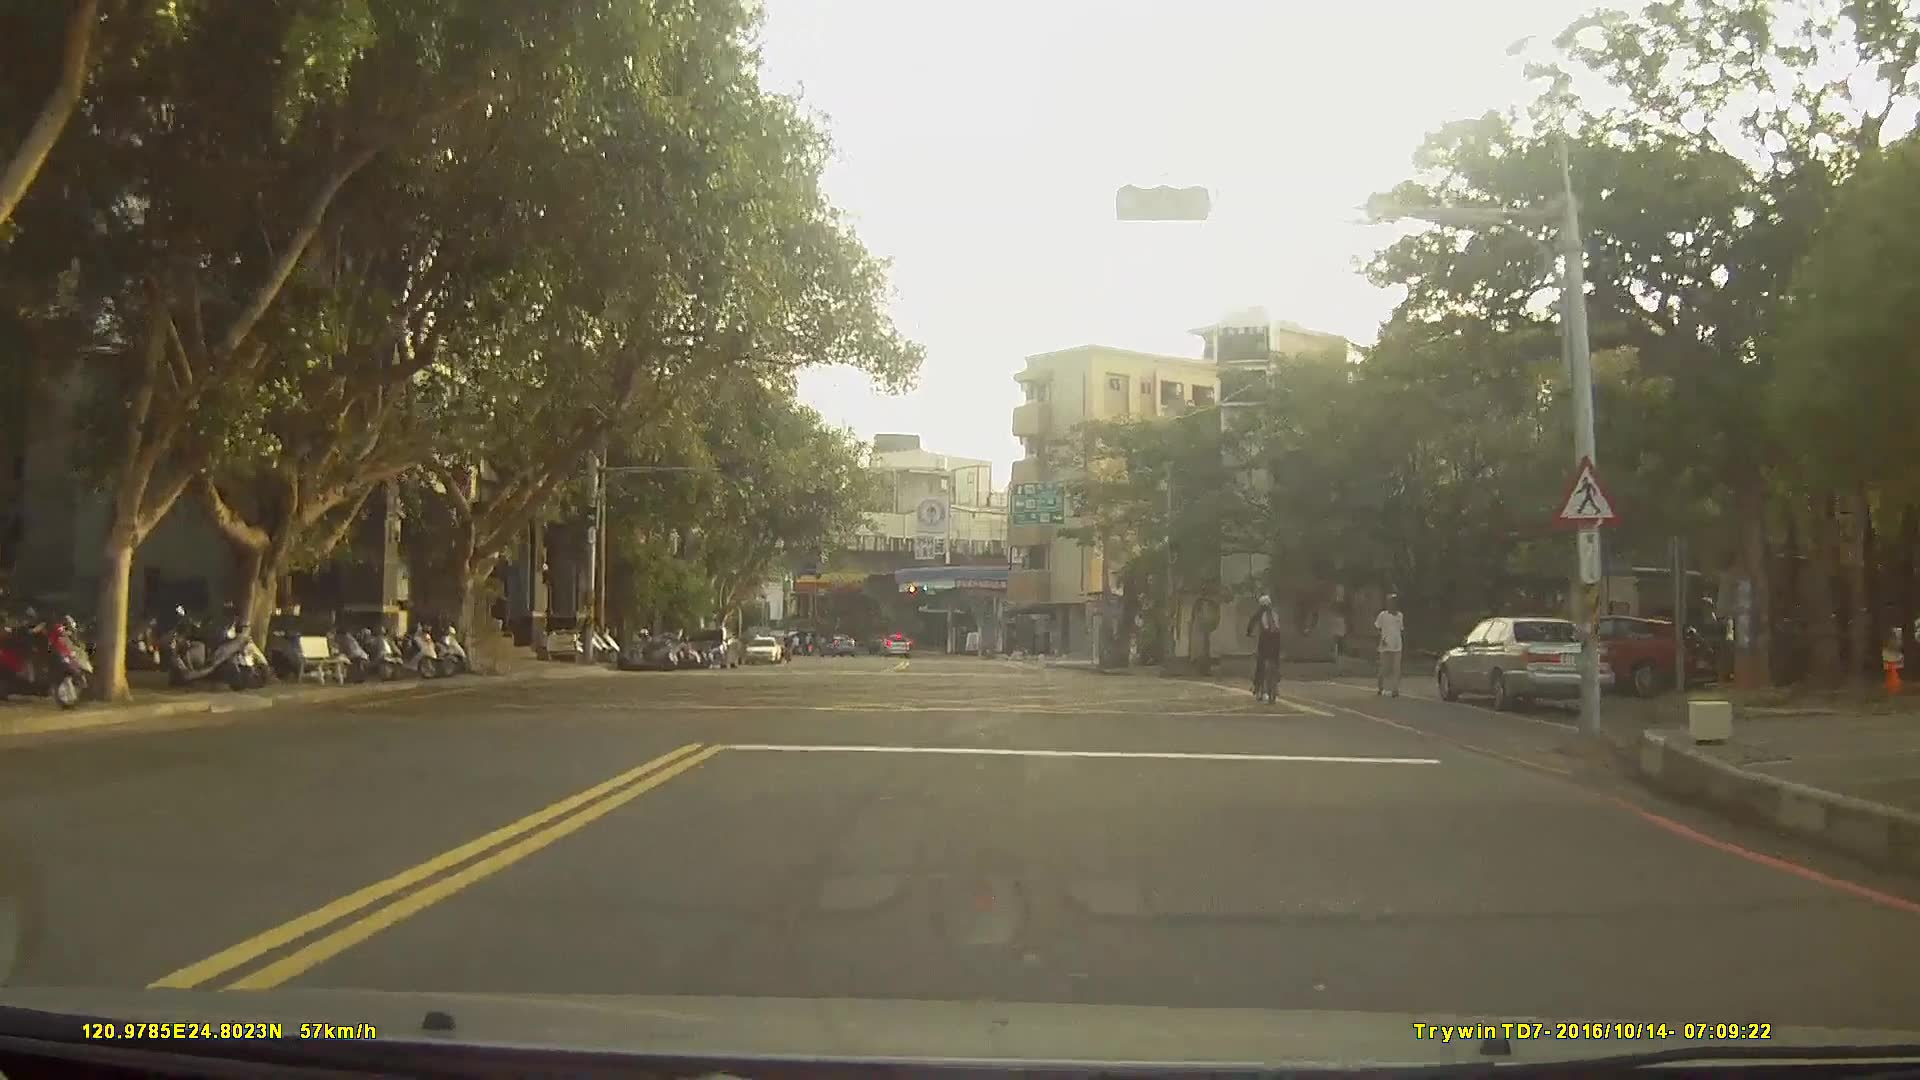pedestrian: (1372, 588, 1416, 699), (489, 596, 509, 647)
rider: (1247, 593, 1293, 702)
vehicle: (1435, 613, 1615, 709), (1547, 613, 1684, 695), (683, 624, 737, 670), (743, 632, 780, 664), (880, 627, 912, 653)
